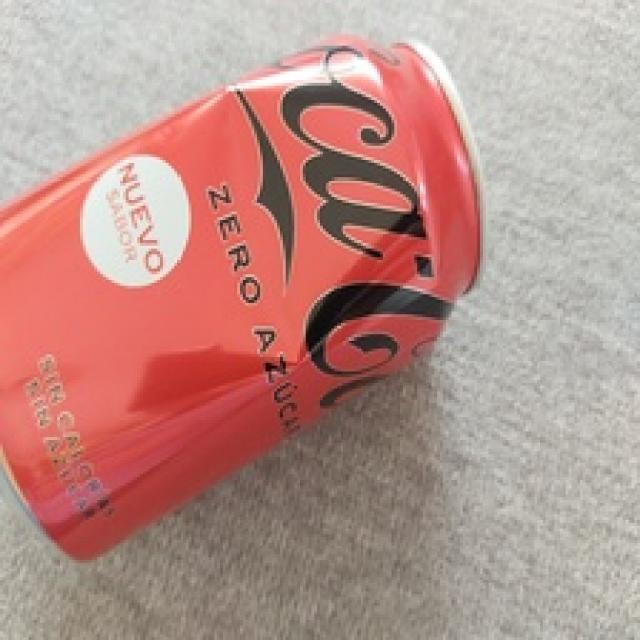recyclable: (0, 34, 491, 562)
